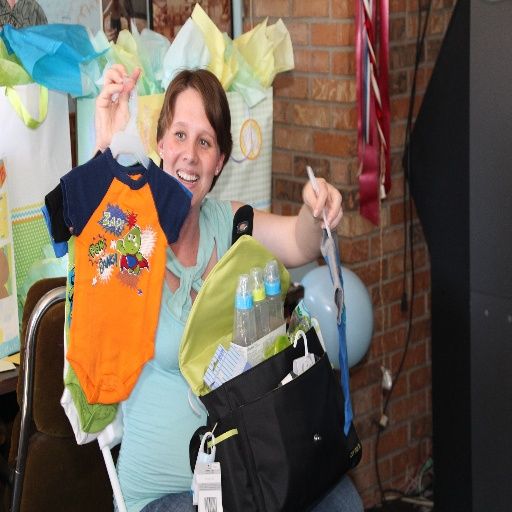hand: (96, 62, 140, 149), (300, 167, 352, 218)
